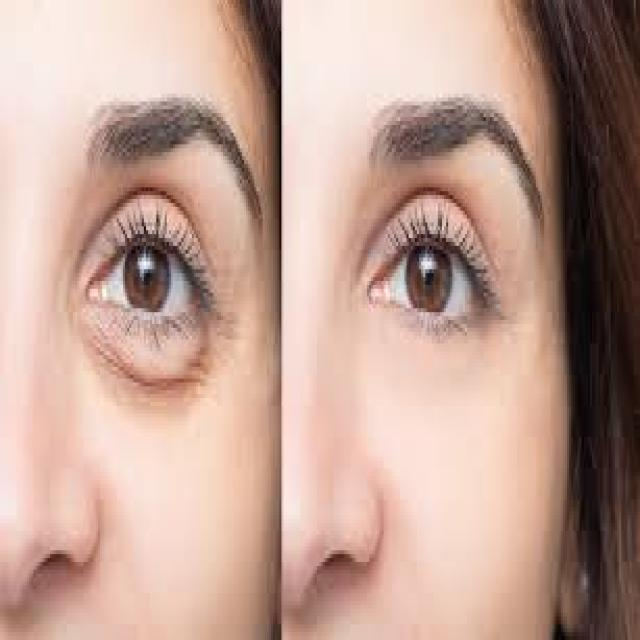Puffy Eyes - v3 Dark Circle: (85, 314, 232, 420)
